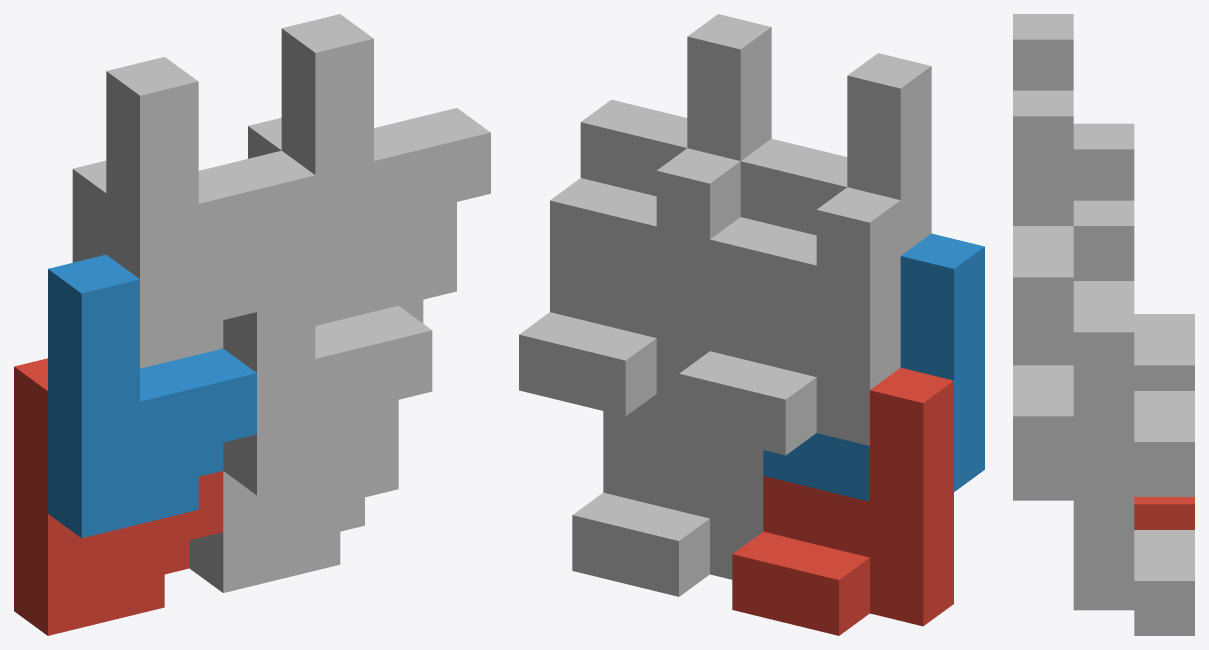
The model's file is tiling.obj.
3 renders of one model, left to right at view 1: azimuth 30°, elevation 25°; view 2: azimuth 150°, elevation 25°; view 3: azimuth 270°, elevation 25°, orthographic. The views are drawn at different scales.
Visible parts, largest first — view 1: copy_1_domain_2, copy_1_domain_4, copy_1_domain_8, copy_1_domain_6, copy_1_domain_1, copy_1_domain_5, copy_1_domain_7, copy_1_domain_3; view 2: copy_1_domain_1, copy_1_domain_3, copy_1_domain_7, copy_1_domain_4, copy_1_domain_8, copy_1_domain_5, copy_1_domain_2, copy_1_domain_6; view 3: copy_1_domain_8, copy_1_domain_7, copy_1_domain_6, copy_1_domain_5, copy_1_domain_3, copy_1_domain_4, copy_1_domain_1.
Part boxes in pixels (<box>): copy_1_domain_2: <box>48,254,256,538</box>; copy_1_domain_4: <box>106,57,315,340</box>; copy_1_domain_8: <box>281,14,490,297</box>; copy_1_domain_6: <box>223,236,432,495</box>; copy_1_domain_1: <box>14,358,223,635</box>; copy_1_domain_5: <box>189,428,398,592</box>; copy_1_domain_7: <box>248,117,456,325</box>; copy_1_domain_3: <box>72,160,223,368</box>; copy_1_domain_1: <box>732,367,953,635</box>; copy_1_domain_3: <box>679,187,900,455</box>; copy_1_domain_7: <box>519,148,740,416</box>; copy_1_domain_4: <box>710,53,931,321</box>; copy_1_domain_8: <box>550,14,771,282</box>; copy_1_domain_5: <box>572,437,763,596</box>; copy_1_domain_2: <box>763,233,984,501</box>; copy_1_domain_6: <box>603,394,709,462</box>; copy_1_domain_8: <box>1013,90,1134,386</box>; copy_1_domain_7: <box>1073,200,1194,496</box>; copy_1_domain_6: <box>1013,361,1134,526</box>; copy_1_domain_5: <box>1073,526,1194,635</box>; copy_1_domain_3: <box>1073,123,1194,390</box>; copy_1_domain_4: <box>1013,14,1073,90</box>; copy_1_domain_1: <box>1134,497,1194,529</box>.
Size of the model in its own units: 7 by 9 by 3.
